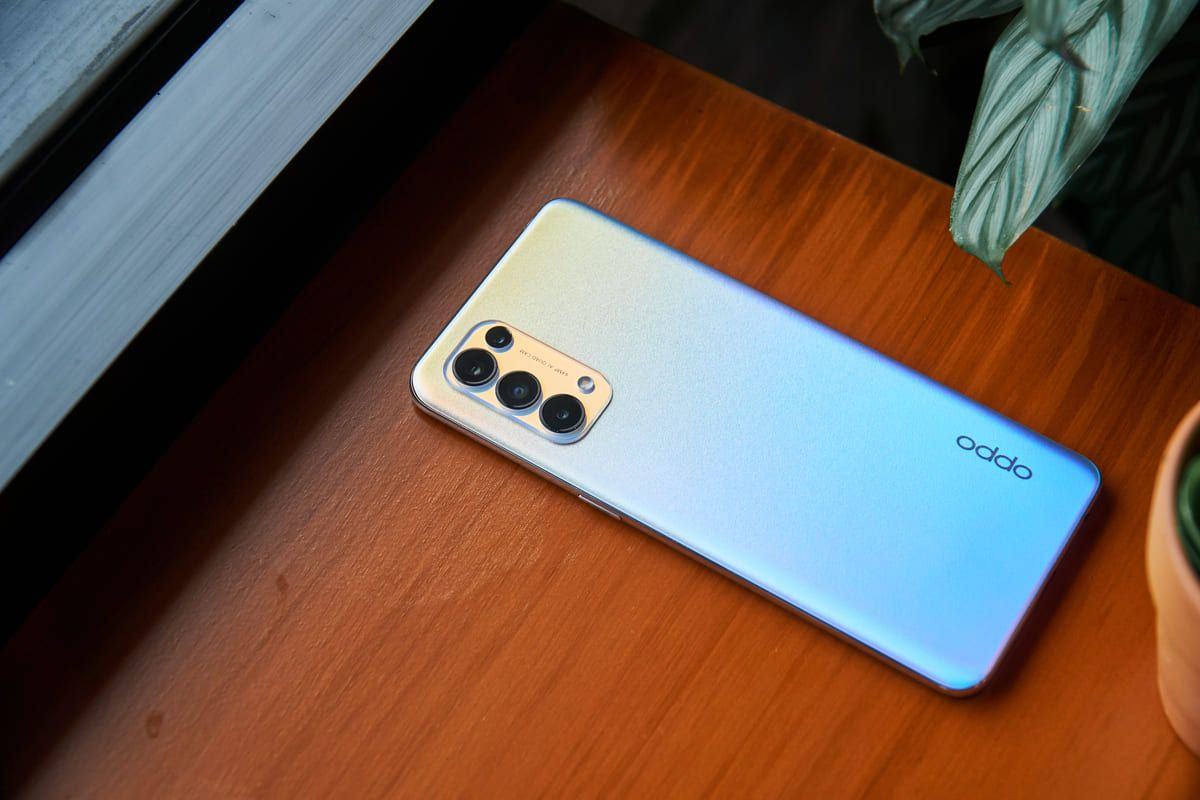phone: (396, 168, 1116, 718)
